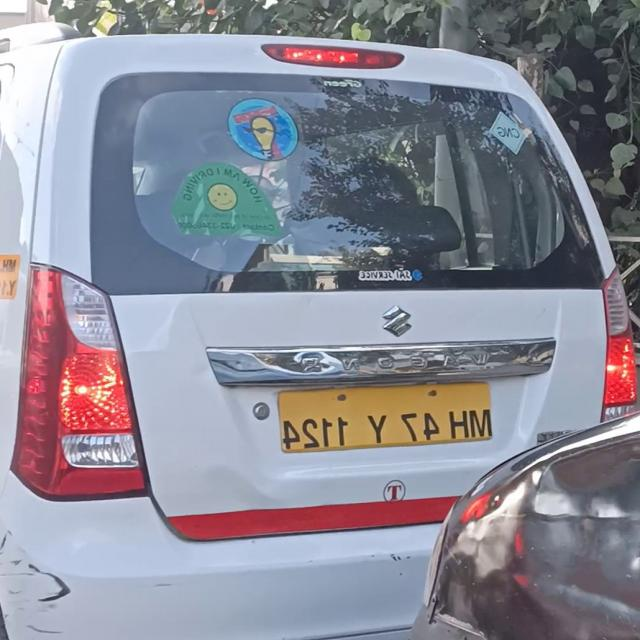license_plate: (270, 375, 497, 461)
